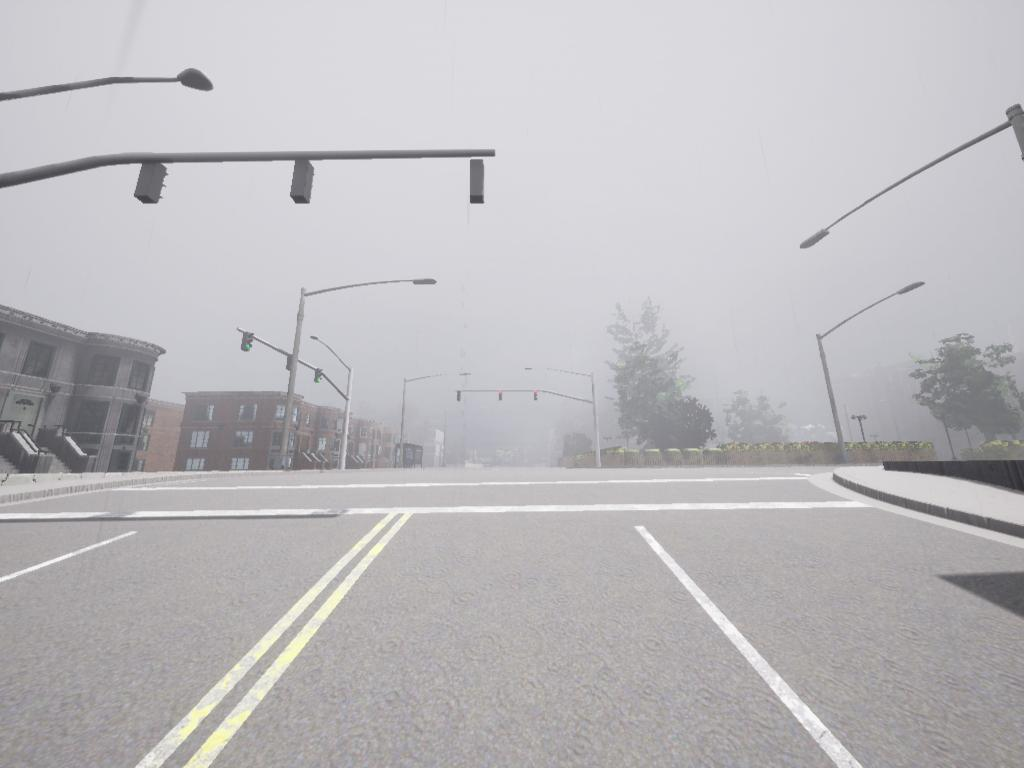traffic_light: (133, 164, 168, 207), (290, 161, 315, 207), (471, 160, 486, 206), (239, 331, 252, 352), (286, 353, 295, 375), (316, 368, 324, 385), (456, 391, 463, 406), (499, 392, 505, 404), (535, 392, 539, 404)
